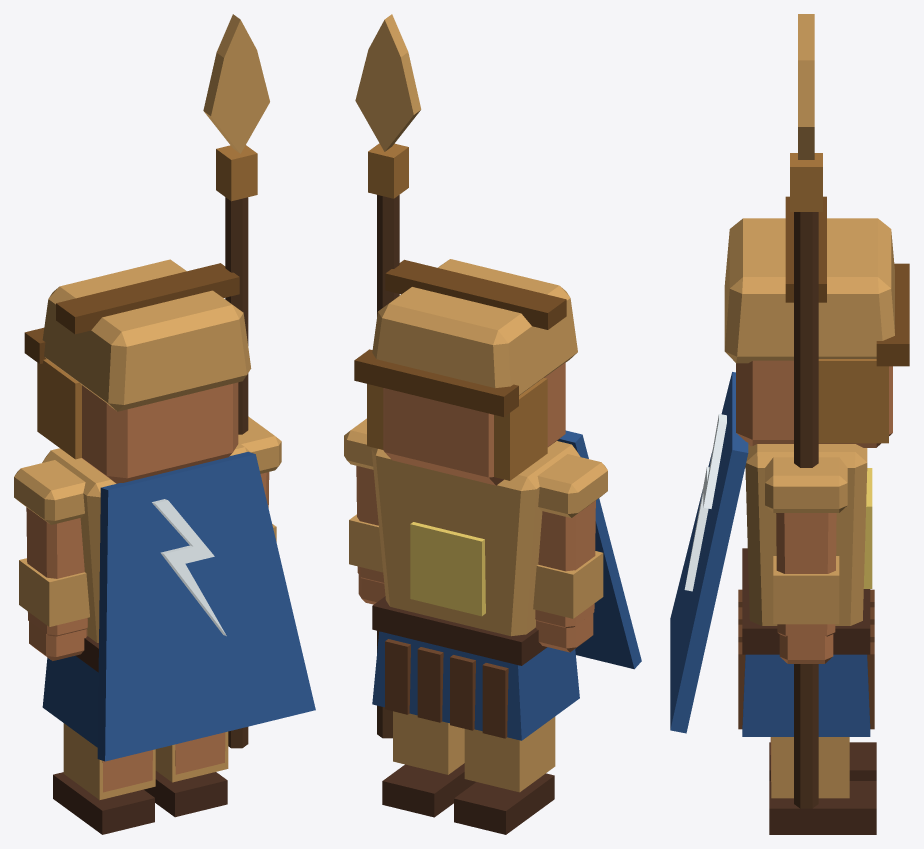
The model's file is CH_ThunderChampion.fbx.
3 renders of one model, left to right at view 1: azimuth 30°, elevation 25°; view 2: azimuth 150°, elevation 25°; view 3: azimuth 270°, elevation 25°, orthographic. The views are drawn at different scales.
Parts seen in each view (by area): view 1: Cape, Helm, Head, Blade, CrestBase, ArmL, Skirt, Body, CheekL, ShoulderL, SandalL, Shaft (+11 smaller); view 2: Body, Helm, Head, Skirt, Abs, Blade, CrestBase, Cape, Belt, GreaveL, Brow, CheekL (+18 smaller); view 3: Helm, Shaft, Cape, Body, Skirt, CheekR, Head, ArmR, SandalR, ShoulderR, BracerR, GreaveR (+10 smaller).
Part boxes in pixels (x1,y1,x2,y2): Cape: (97,451,315,761); Helm: (42,259,251,411); Head: (82,382,238,483); Blade: (203,14,269,153); CrestBase: (56,263,239,334); ArmL: (26,507,87,636); Skirt: (42,655,98,747); Body: (42,442,250,642); CheekL: (37,359,81,459); ShoulderL: (14,460,85,524); SandalL: (53,772,154,834); Shaft: (225,197,248,748); Body: (371,441,580,636); Helm: (372,259,577,395); Head: (383,362,565,485); Skirt: (372,631,579,740); Abs: (410,522,485,616); Blade: (355,14,421,151); CrestBase: (385,259,566,329); Cape: (557,430,641,669); Belt: (372,596,547,665); GreaveL: (464,716,555,792); Brow: (354,349,518,416); CheekL: (494,378,547,480); Helm: (724,218,894,363); Shaft: (794,212,818,808); Cape: (670,372,748,733); Body: (745,444,867,625); Skirt: (742,654,870,736); CheekR: (818,359,888,443); Head: (736,360,892,447); ArmR: (776,513,836,636); SandalR: (769,781,876,834); ShoulderR: (765,457,847,512); BracerR: (773,556,839,624); GreaveR: (771,737,849,798).
Size of the model in its own units: 0.72 by 0.5793 by 2.23.
